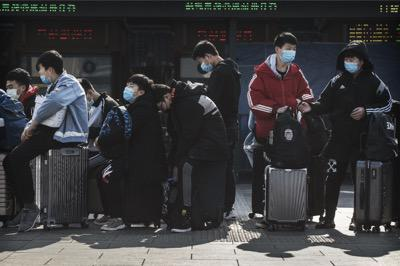mask_weared_incorrect: (37, 71, 51, 86)
with_mask: (280, 45, 296, 63), (343, 57, 359, 74), (122, 84, 137, 102), (5, 82, 19, 100), (198, 60, 212, 73)
